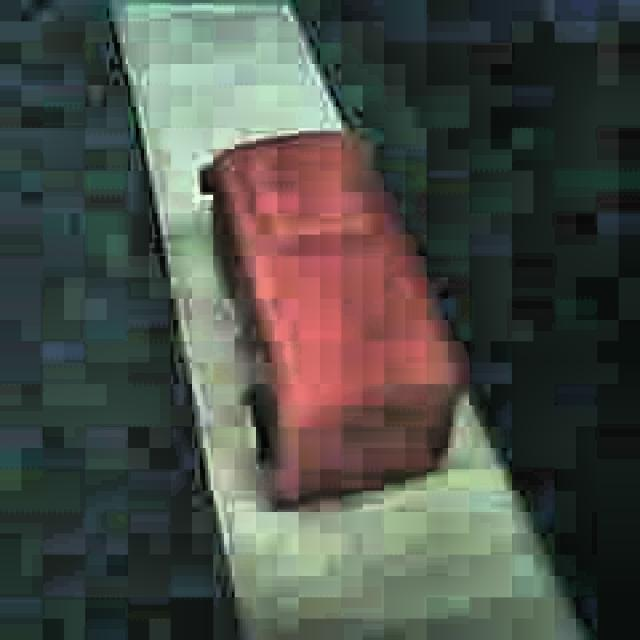bus: (199, 125, 468, 518)
